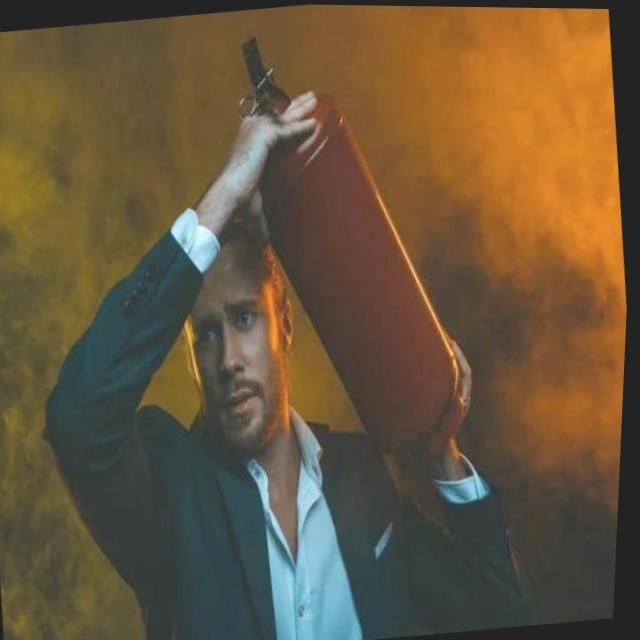FireExtinguisher: (212, 7, 487, 472)
